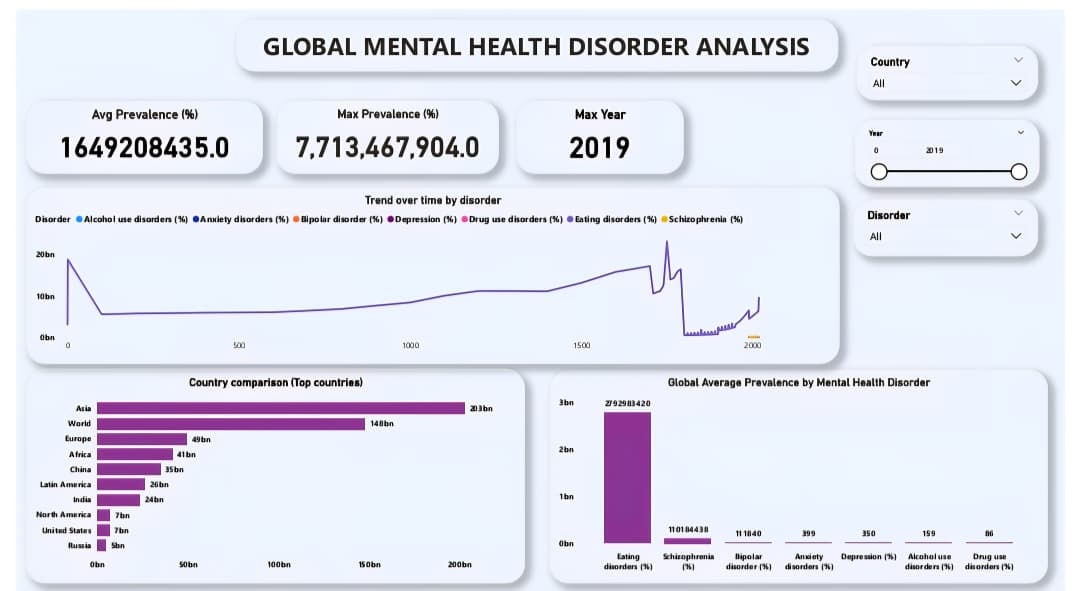

This screenshot's page, from the dashboard's own definition file:
{"tool":"powerbi","page":{"name":"Page 1","canvas":[1600,900],"ordinal":0},"visuals":[{"type":"clusteredColumnChart","title":"Global Average Prevalence by Mental Health Disorder","fields":{"Category":["Mental health Depression disorder Data (1).Disorder"],"Y":["Mental health Depression disorder Data (1).Avg Prevalence (%)"]},"box":[814,548.8,761,327.4],"z":0},{"type":"lineChart","title":"Trend over time by disorder","fields":{"Y":["Mental health Depression disorder Data (1).Avg Prevalence (%)"],"Series":["Mental health Depression disorder Data (1).Disorder"],"Category":["Mental health Depression disorder Data (1).Year"]},"box":[14.6,270.7,1242.1,270.7],"z":1},{"type":"clusteredBarChart","title":"Country comparison (Top countries)","fields":{"Category":["Mental health Depression disorder Data (1).Country"],"Y":["Mental health Depression disorder Data (1).Avg Prevalence (%)"]},"box":[14.6,548.8,762.8,327.4],"z":2},{"type":"textbox","box":[334.8,14.6,920.1,80.5],"z":3},{"type":"card","title":"Avg Prevalence (%)","fields":{"Values":["Mental health Depression disorder Data (1).Avg Prevalence (%)"]},"box":[14.6,139,362.2,111.6],"z":4},{"type":"card","title":"Max Prevalence (%)","fields":{"Values":["Mental health Depression disorder Data (1).Max Prevalence"]},"box":[397,139,340.2,111.6],"z":5},{"type":"card","title":"Max Year","fields":{"Values":["Max(Mental health Depression disorder Data (1).Year)"]},"box":[762.8,139,256.1,111.6],"z":6},{"type":"slicer","fields":{"Values":["Mental health Depression disorder Data (1).Country"]},"box":[1282.3,54.9,278,84.1],"z":7},{"type":"slicer","fields":{"Values":["Mental health Depression disorder Data (1).Year"]},"box":[1278.7,168.3,283.5,102.4],"z":8},{"type":"slicer","fields":{"Values":["Mental health Depression disorder Data (1).Disorder"]},"box":[1276.8,289,283.5,87.8],"z":9}]}

Visuals, with their boxes in screenshot pixels (x1, y1, x2, y2), scaled from the page's 1600x900 canvas onto the 1080x591 screenshot:
"Global Average Prevalence by Mental Health Disorder" clusteredColumnChart: box(549, 360, 1063, 575)
"Trend over time by disorder" lineChart: box(10, 178, 848, 356)
"Country comparison (Top countries)" clusteredBarChart: box(10, 360, 525, 575)
textbox: box(226, 10, 847, 62)
"Avg Prevalence (%)" card: box(10, 91, 254, 165)
"Max Prevalence (%)" card: box(268, 91, 498, 165)
"Max Year" card: box(515, 91, 688, 165)
slicer - Mental health Depression disorder Data (1).Country: box(866, 36, 1053, 91)
slicer - Mental health Depression disorder Data (1).Year: box(863, 111, 1054, 178)
slicer - Mental health Depression disorder Data (1).Disorder: box(862, 190, 1053, 247)
